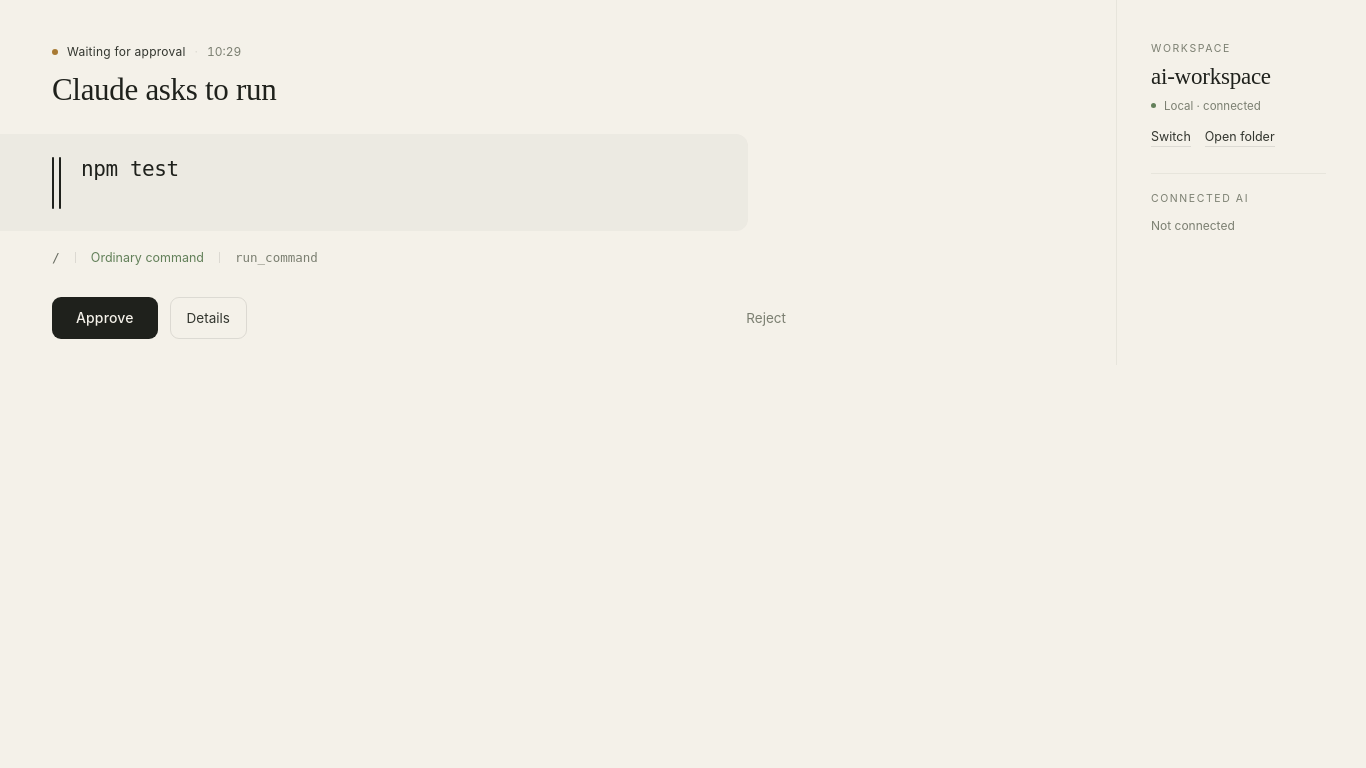
it: what the prompt says about the network › marks the answer the machine could not deliver
This screenshot has width=1366, height=768.
What coordinates should you click on to do the following:
click the button "Details"
I would click on:
 (208, 318)
Its box is 170,297 -> 247,339.
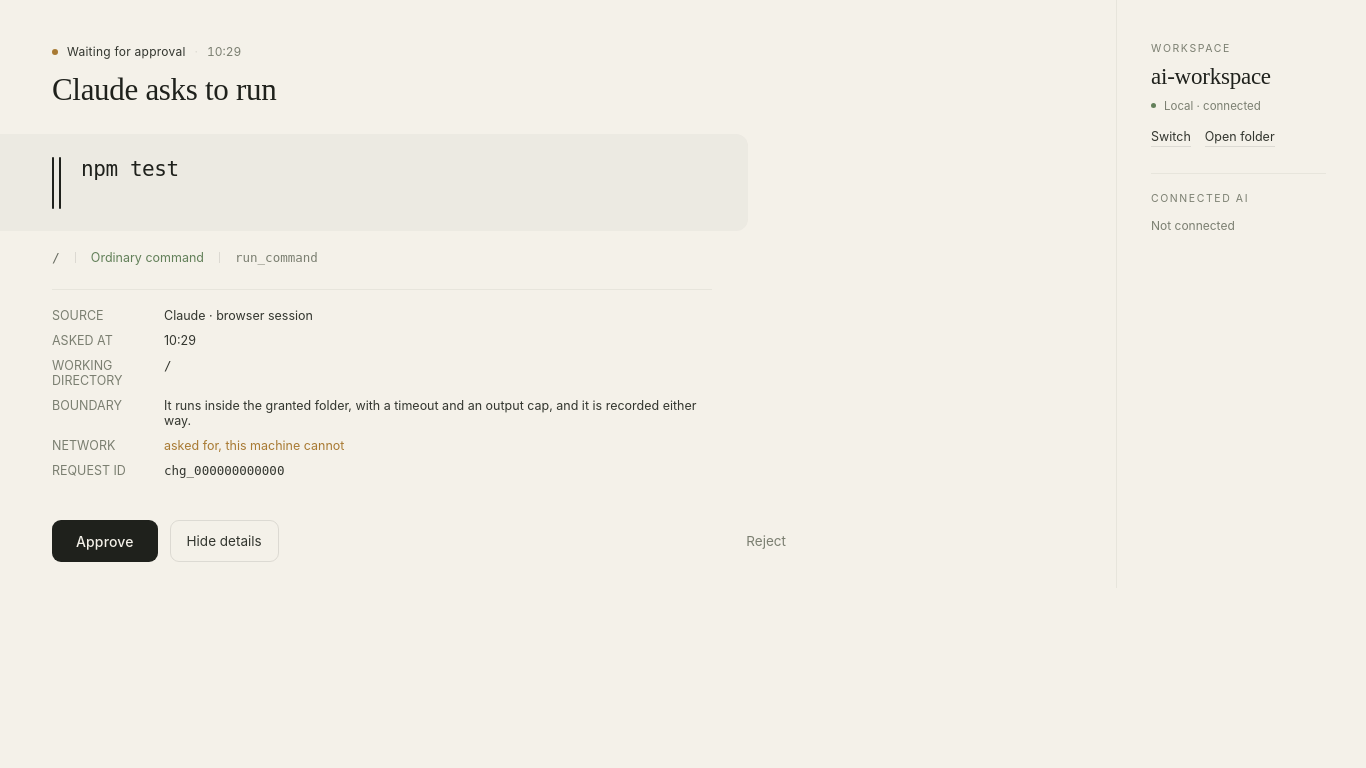
Check: the text "asked for, this machine cannot" is shown, box 164,438 -> 344,453
